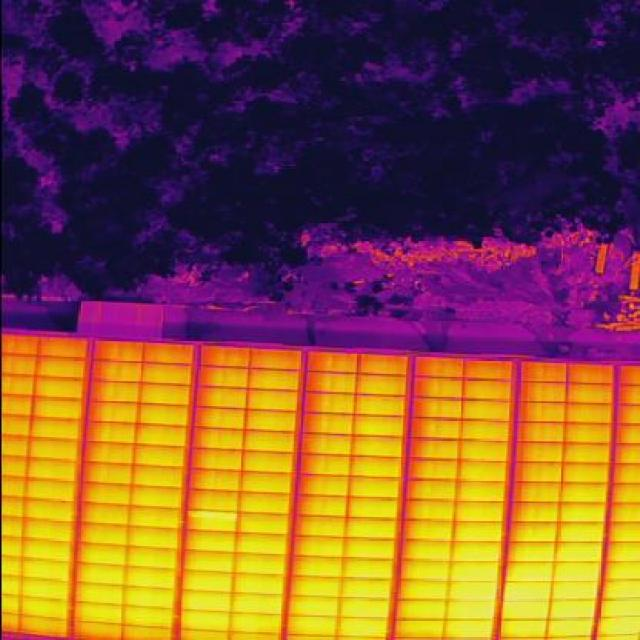diode: (182, 511, 235, 520)
